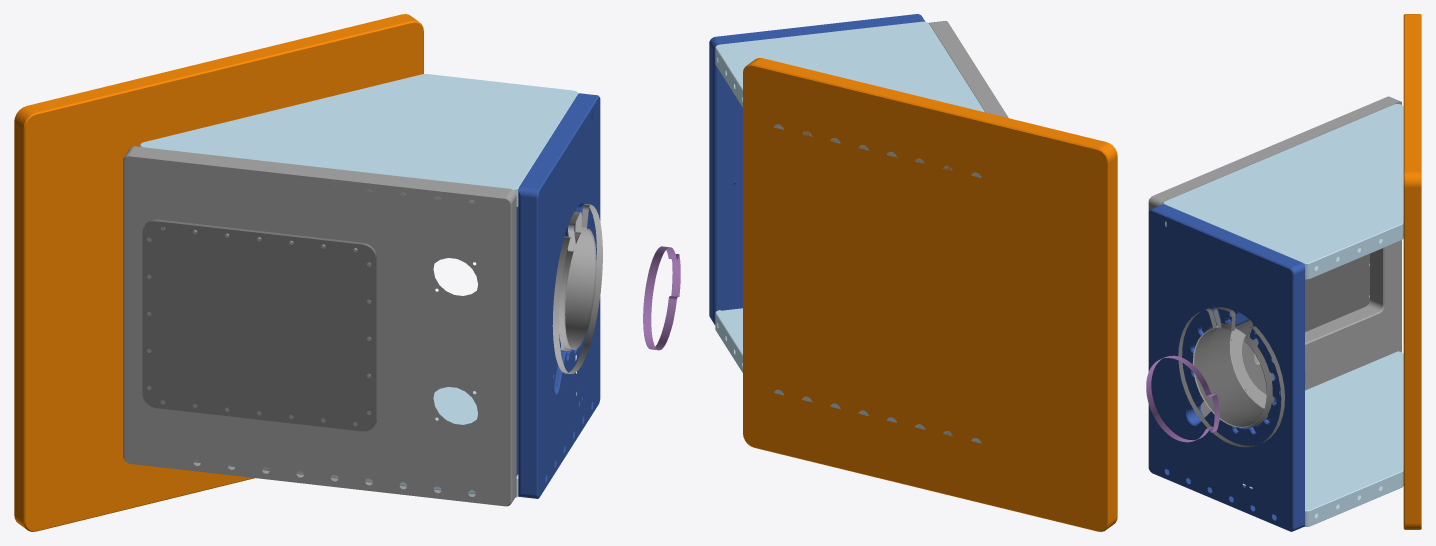
File: TORSO_LINK.obj
The picture shows the model from 3 angles, left to right: view 1: azimuth 30°, elevation 25°; view 2: azimuth 150°, elevation 25°; view 3: azimuth 270°, elevation 25°; orthographic projection. The views are drawn at different scales.
Visible parts, largest first — view 1: CATS_P01_01_Back_Plate, CATS_P01_05_Base_Plate, CATS_P01_06_Back_Plate_Lid, CATS_P01_04_Side_Plate, CATS_P01_02_Top_Plate, N17_26_P01_01_Motor_Housing_85x26_Arm_Base, N17_25_P03_04_Mech_Stop_Shoulder; view 2: CATS_P01_05_Base_Plate, CATS_P01_04_Side_Plate, CATS_P01_02_Top_Plate, CATS_P01_01_Back_Plate; view 3: CATS_P01_04_Side_Plate, CATS_P01_02_Top_Plate, CATS_P01_01_Back_Plate, CATS_P01_05_Base_Plate, N17_26_P01_01_Motor_Housing_85x26_Arm_Base, CATS_P01_06_Back_Plate_Lid, N17_25_P03_04_Mech_Stop_Shoulder.
Part boxes in pixels (x1,y1,x2,y2): CATS_P01_01_Back_Plate: [123, 146, 516, 506]; CATS_P01_05_Base_Plate: [14, 14, 423, 531]; CATS_P01_06_Back_Plate_Lid: [142, 219, 376, 431]; CATS_P01_04_Side_Plate: [139, 74, 578, 497]; CATS_P01_02_Top_Plate: [516, 93, 600, 498]; N17_26_P01_01_Motor_Housing_85x26_Arm_Base: [552, 204, 602, 373]; N17_25_P03_04_Mech_Stop_Shoulder: [643, 246, 680, 350]; CATS_P01_05_Base_Plate: [743, 58, 1117, 531]; CATS_P01_04_Side_Plate: [715, 21, 984, 443]; CATS_P01_02_Top_Plate: [709, 14, 925, 324]; CATS_P01_01_Back_Plate: [929, 21, 1008, 117]; CATS_P01_04_Side_Plate: [1163, 104, 1403, 526]; CATS_P01_02_Top_Plate: [1148, 204, 1304, 531]; CATS_P01_01_Back_Plate: [1148, 96, 1401, 416]; CATS_P01_05_Base_Plate: [1403, 14, 1421, 529]; N17_26_P01_01_Motor_Housing_85x26_Arm_Base: [1178, 307, 1305, 447]; CATS_P01_06_Back_Plate_Lid: [1305, 254, 1369, 331]; N17_25_P03_04_Mech_Stop_Shoulder: [1146, 355, 1219, 442].
Bounding box in the file's own units: 0.443 × 0.325 × 0.2271.
